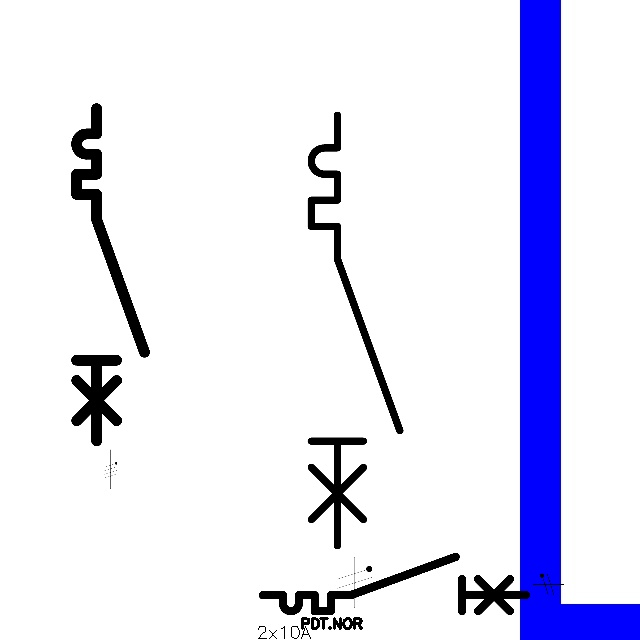interruptor_termomagnetico: (300, 104, 410, 556), (68, 100, 153, 449), (256, 550, 533, 618)
